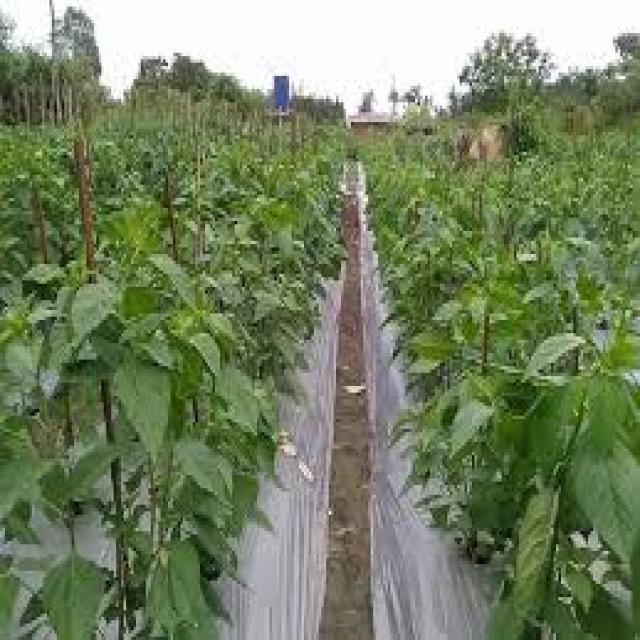Mosaic_virus: (373, 115, 640, 640), (0, 111, 206, 640), (194, 85, 344, 357)
